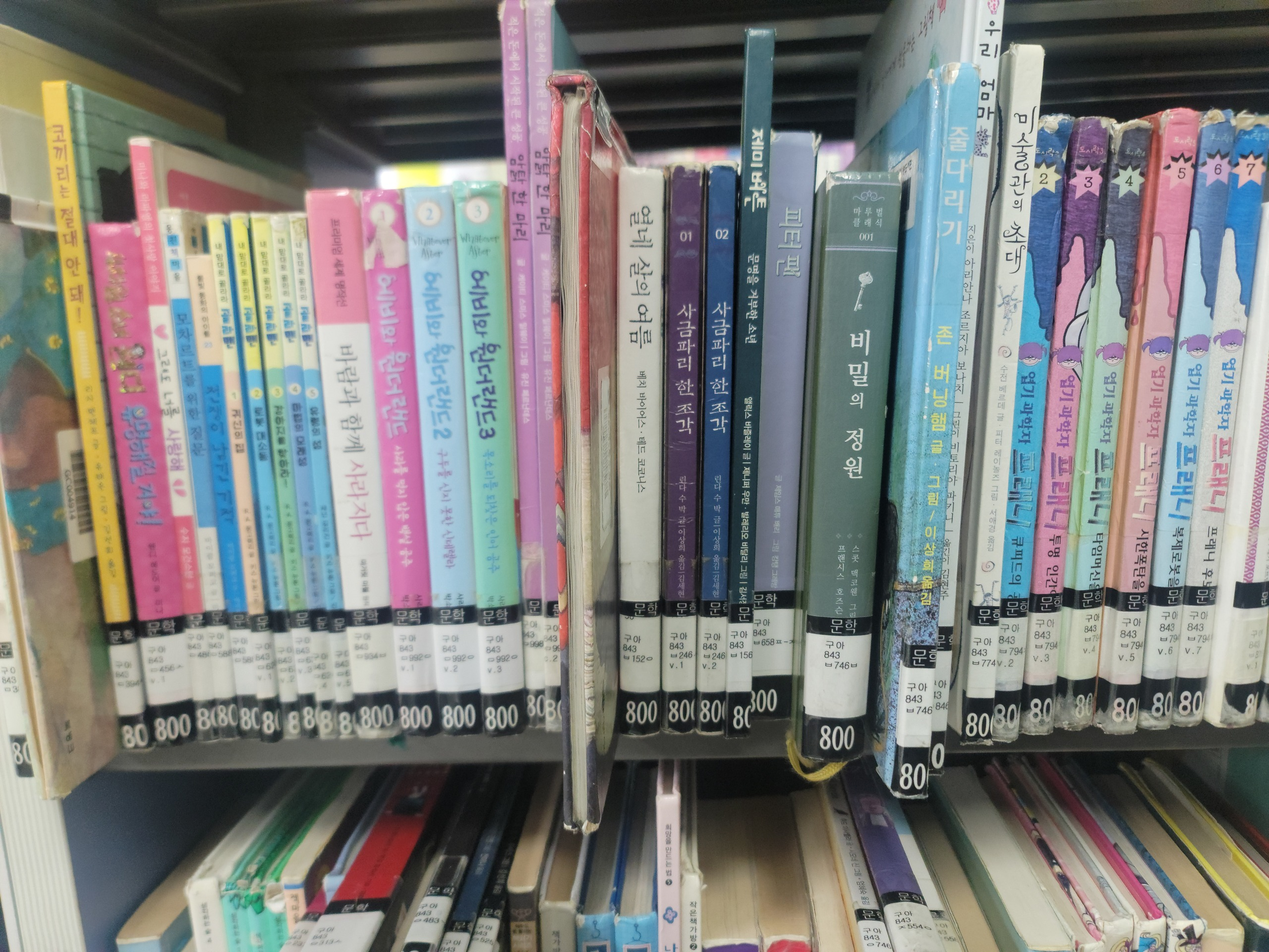book-spine: (38, 83, 148, 750), (890, 64, 976, 799), (798, 172, 902, 762), (1137, 115, 1236, 730), (1103, 109, 1200, 734), (1169, 117, 1268, 729), (1057, 116, 1151, 730), (1019, 115, 1112, 735), (927, 11, 1002, 773), (87, 226, 196, 749), (962, 45, 1043, 746), (129, 146, 219, 744), (303, 191, 400, 740), (989, 113, 1071, 743), (358, 190, 439, 737), (402, 184, 482, 736), (452, 181, 525, 737), (749, 133, 816, 735), (162, 233, 240, 740), (206, 215, 280, 740), (228, 217, 301, 741), (269, 213, 338, 743), (287, 212, 356, 742), (723, 21, 774, 738), (185, 253, 260, 738), (249, 216, 318, 739), (499, 0, 546, 737), (1204, 237, 1268, 737), (617, 170, 664, 737), (526, 0, 562, 737), (660, 164, 703, 734), (695, 164, 737, 737), (575, 94, 597, 825), (886, 638, 932, 800), (0, 579, 35, 779), (1253, 640, 1268, 729)
